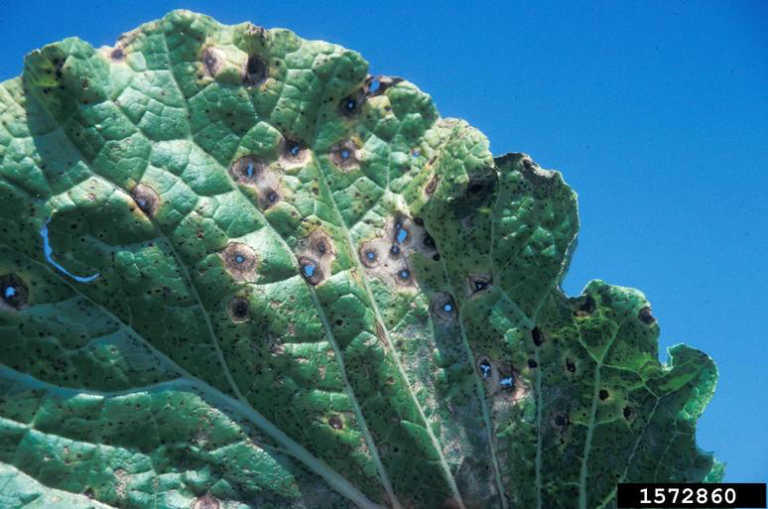Cabbage_AlteriaLeafSpot: (155, 53, 580, 467)
